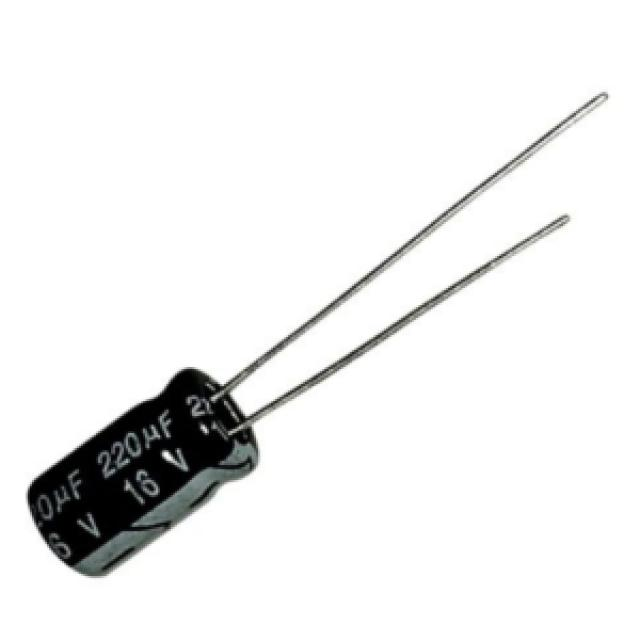Capacitor: (28, 94, 608, 580), (32, 96, 610, 578), (386, 218, 572, 335)
